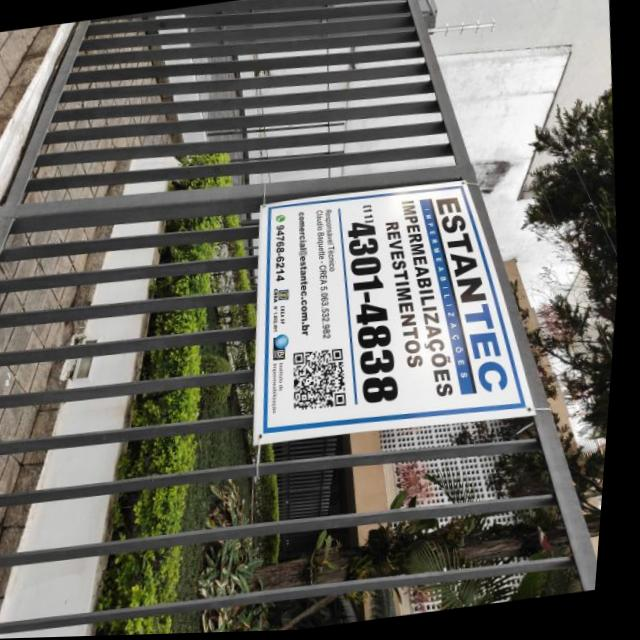qrcode: (295, 349, 356, 416)
